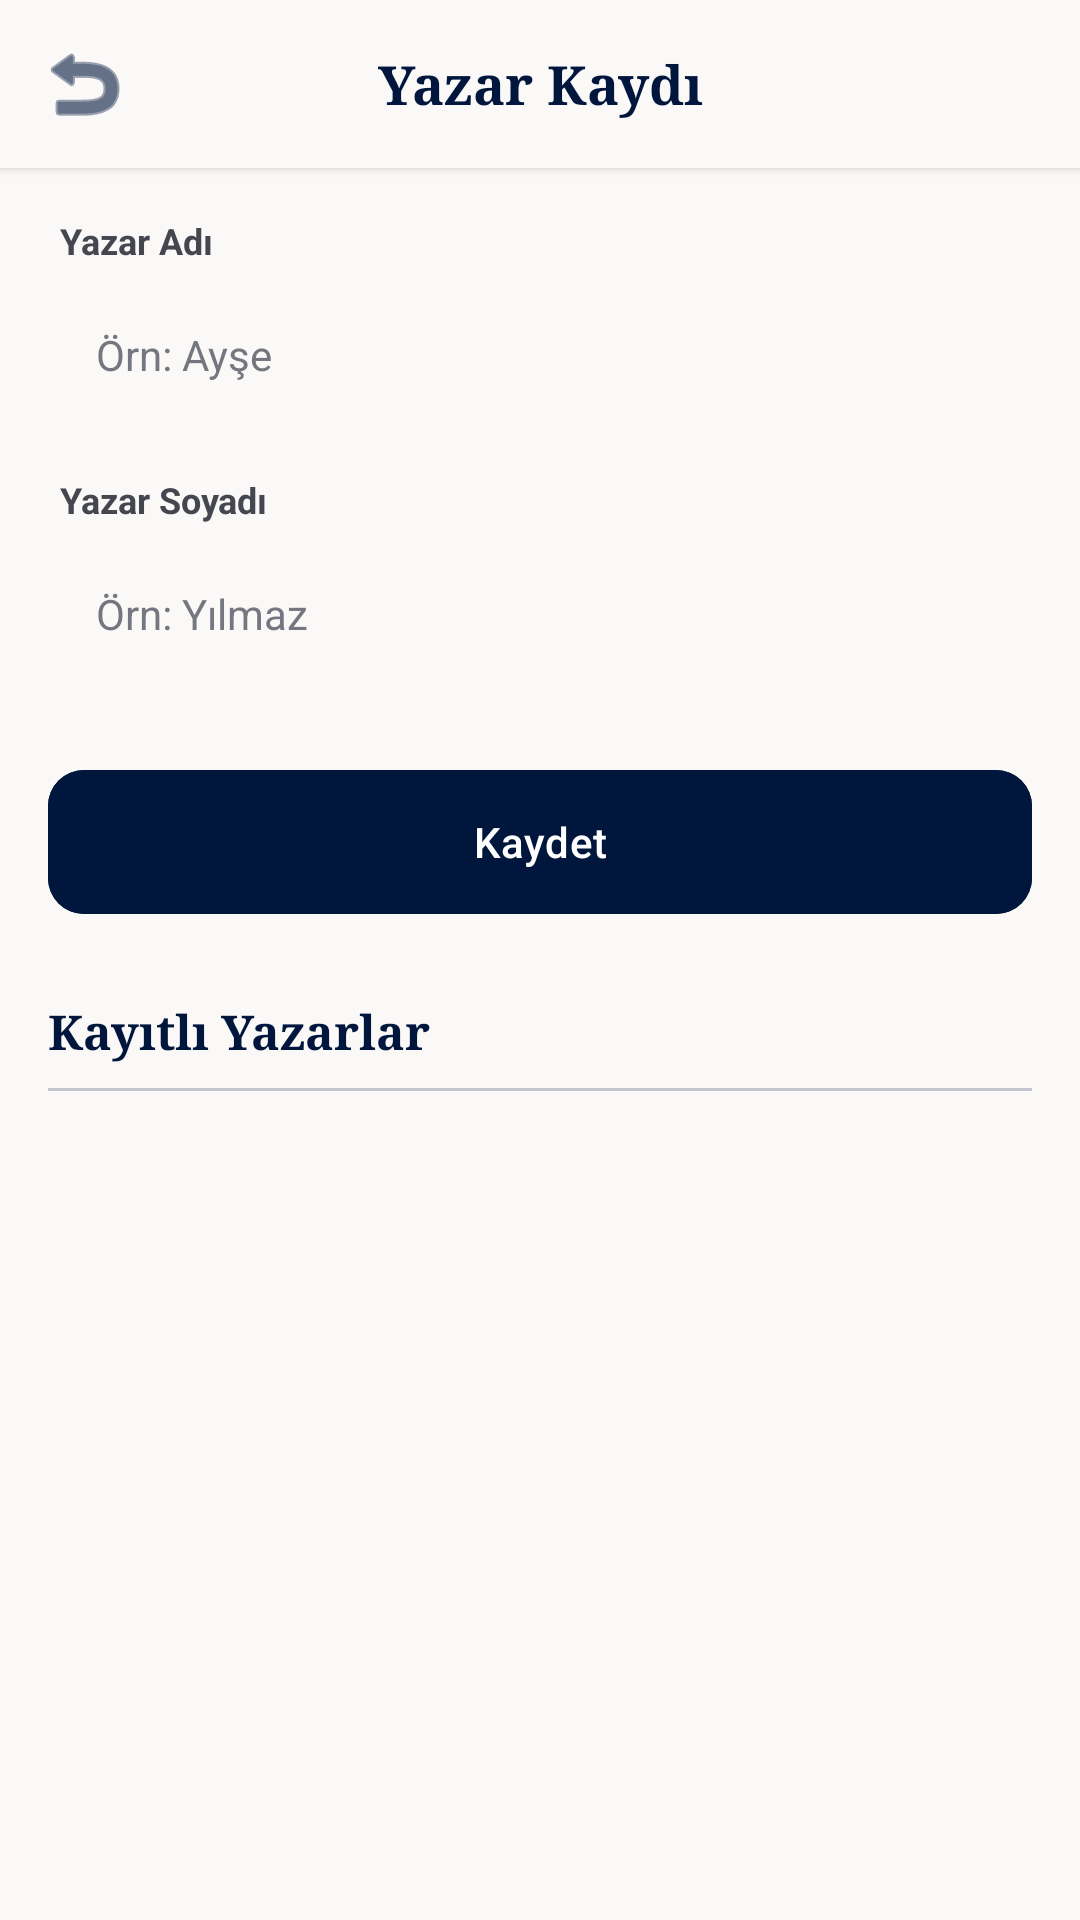

Named icons in this screenshot (1080 x 1920) and their centers, [x,y]:
Geri: [85,84]
